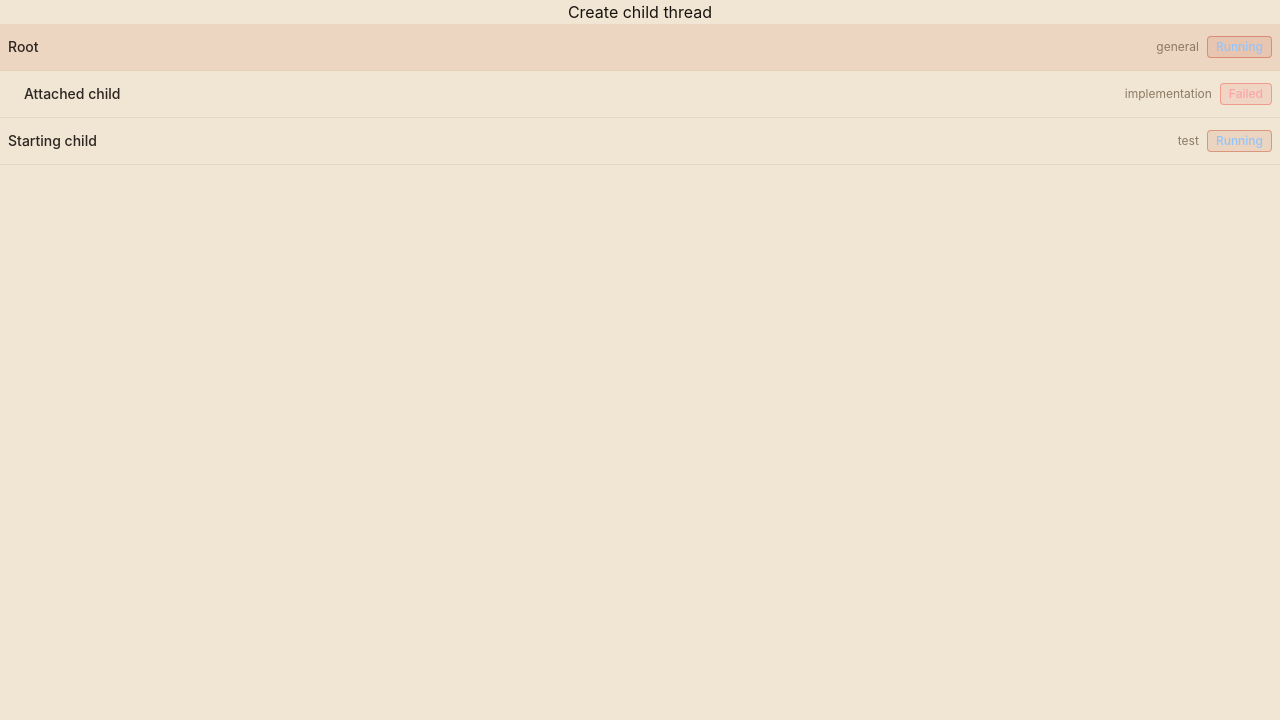
Test: ThreadPanel › opens child dialog from create button
What coordinates should you click on to do the following:
click the button "Create child thread"
I would click on:
 (640, 12)
Its box is [0, 0, 1279, 24].
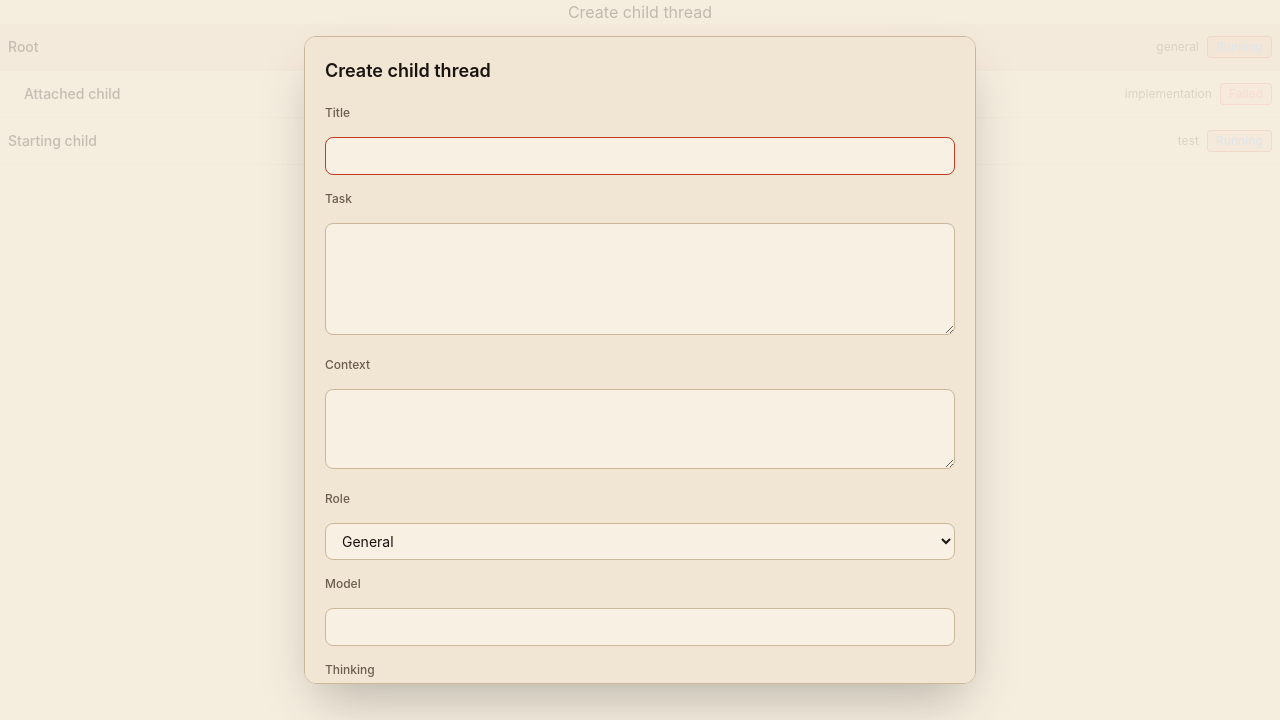
expect the dialog is shown: met, box [304, 36, 976, 684]
